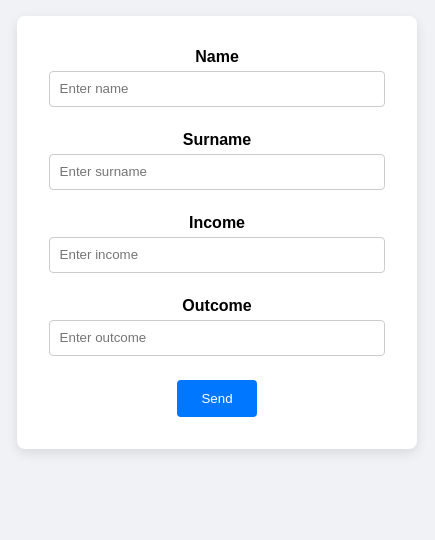
BasicForm Component › shows validation errors if fields are empty and user submits
Click the button with test id "submit-button". click: [217, 399]
box: [177,380,256,417]
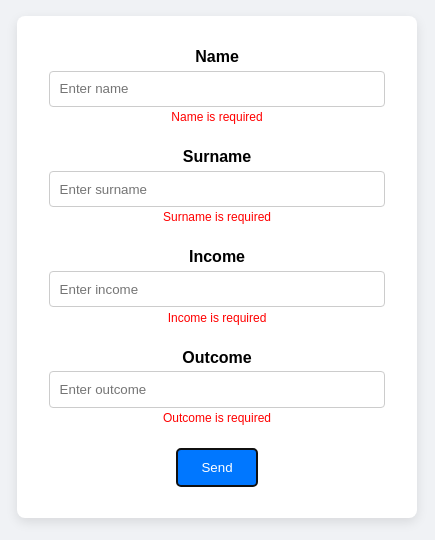
Expected: the text "Name is required" is shown 4 times, [171,110,263,124]; [163,210,271,224]; [168,310,266,324]; [163,411,271,425]
